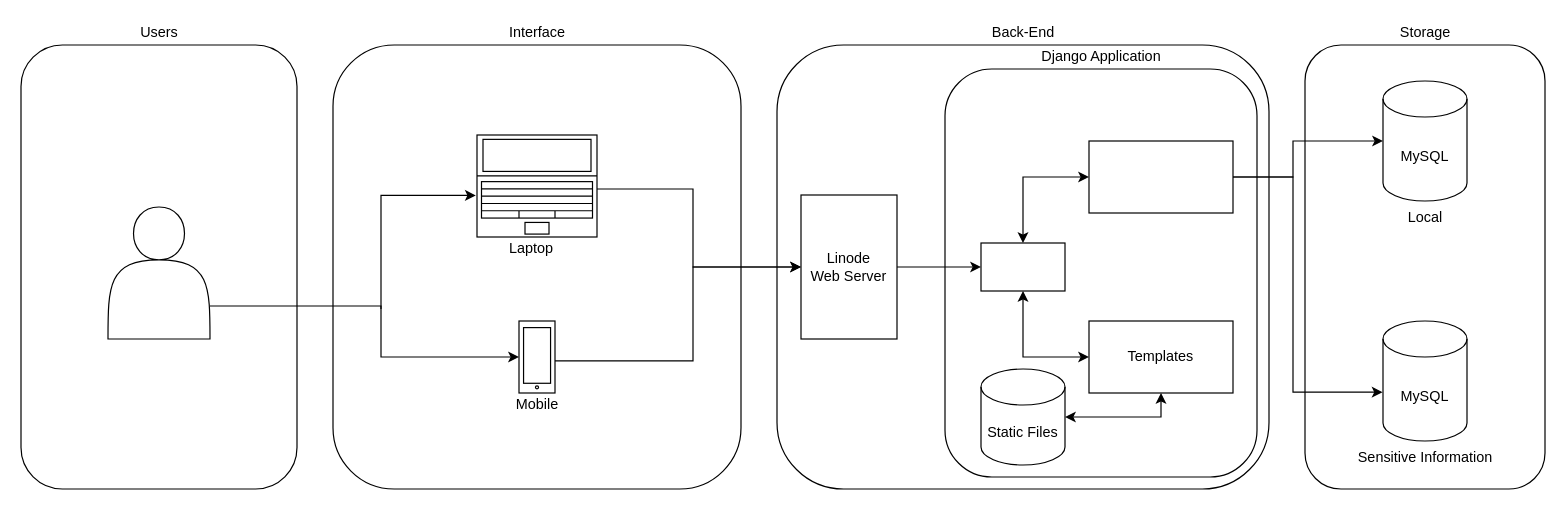
This 1566x510 diagram has some shape labels left out. Here are the shapes that lost their labels. From the top down, the centre of each, then its label:
the point at 1160,176: Models
the point at 1022,266: Views
